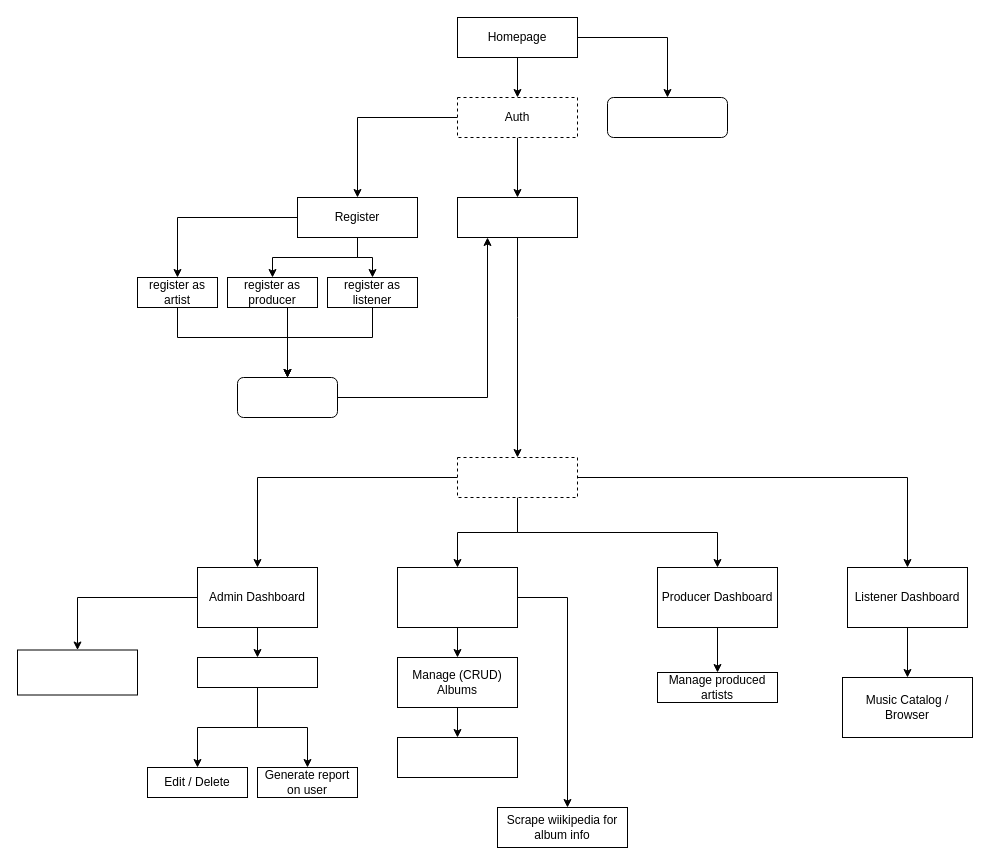
Some shapes in this 990 by 865 pixel diagram are drawn without their labels. The box of each missing label's shape, as (x1, y1, x2, y2) in pixels:
Artist Dashboard: (396, 566, 518, 628)
Contact (using PHPMailer): (606, 96, 728, 138)
Dashboard: (456, 456, 578, 498)
Login: (456, 196, 578, 238)
Manage (CRUD) Songs: (396, 736, 518, 778)
Manage (CRUD) Users: (196, 656, 318, 688)
Succesful registration mail: (236, 376, 338, 418)
View Analytics (charts): (16, 649, 138, 695)
